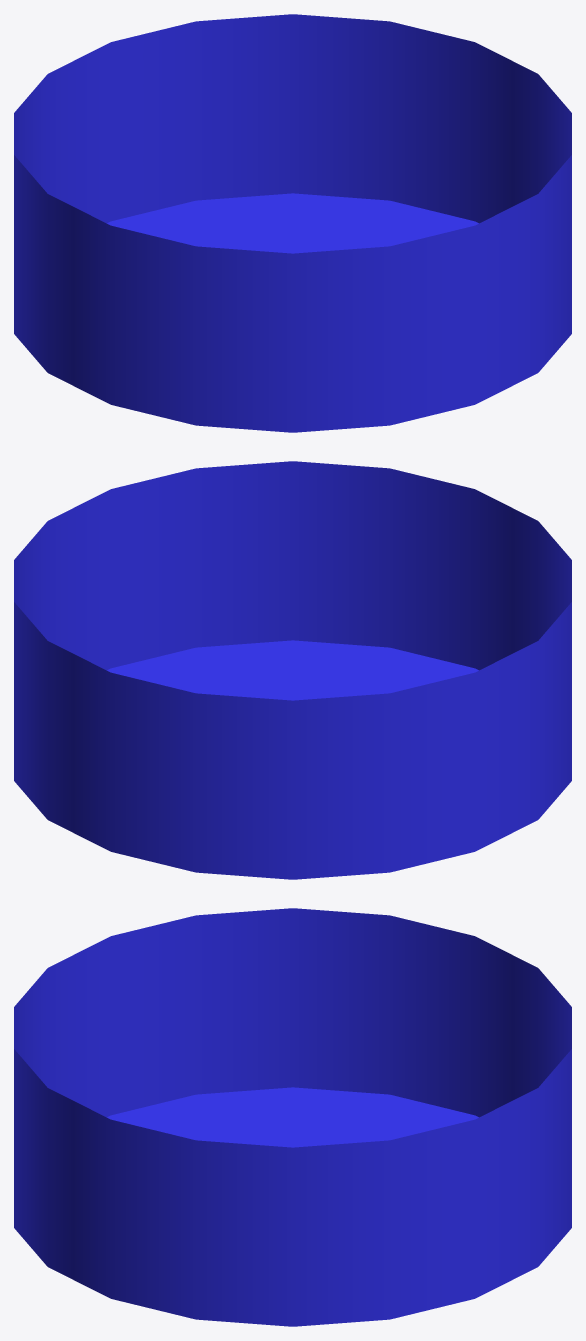
File: Blue Shield.FBX
3 views of the same model, one above another, from view 1: azimuth 30°, elevation 25°; view 2: azimuth 150°, elevation 25°; view 3: azimuth 270°, elevation 25° (orthographic).
Visible parts, largest first — view 1: Wall Force Field; view 2: Wall Force Field; view 3: Wall Force Field.
Part boxes in pixels (left/top/right/bottom): Wall Force Field: left=14, top=14, right=571, bottom=432; Wall Force Field: left=14, top=461, right=571, bottom=879; Wall Force Field: left=14, top=908, right=571, bottom=1326.
Bounding box in the file's own units: 2059 × 719 × 2027.
